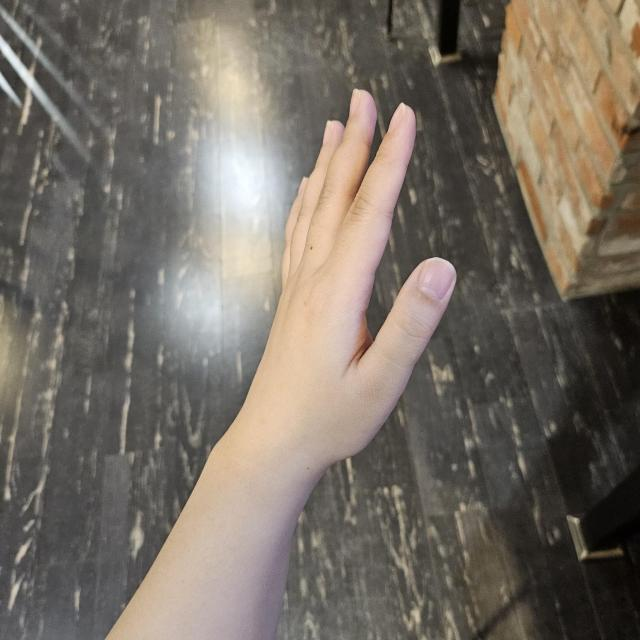hand: (243, 90, 457, 480)
